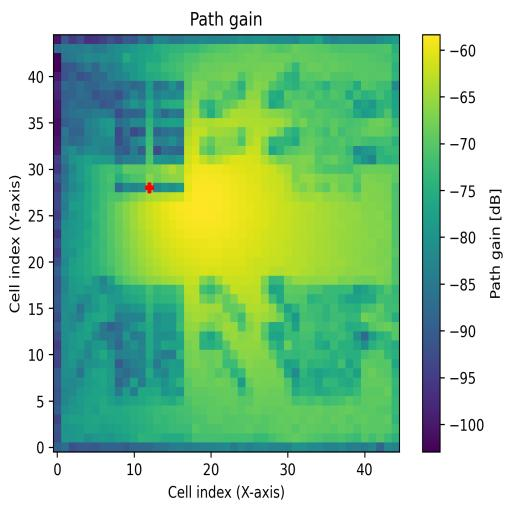Concrete: (292, 74, 362, 192)
Glass: (115, 81, 185, 194)
Metal: (285, 285, 362, 395)
Wood: (115, 285, 185, 396)
